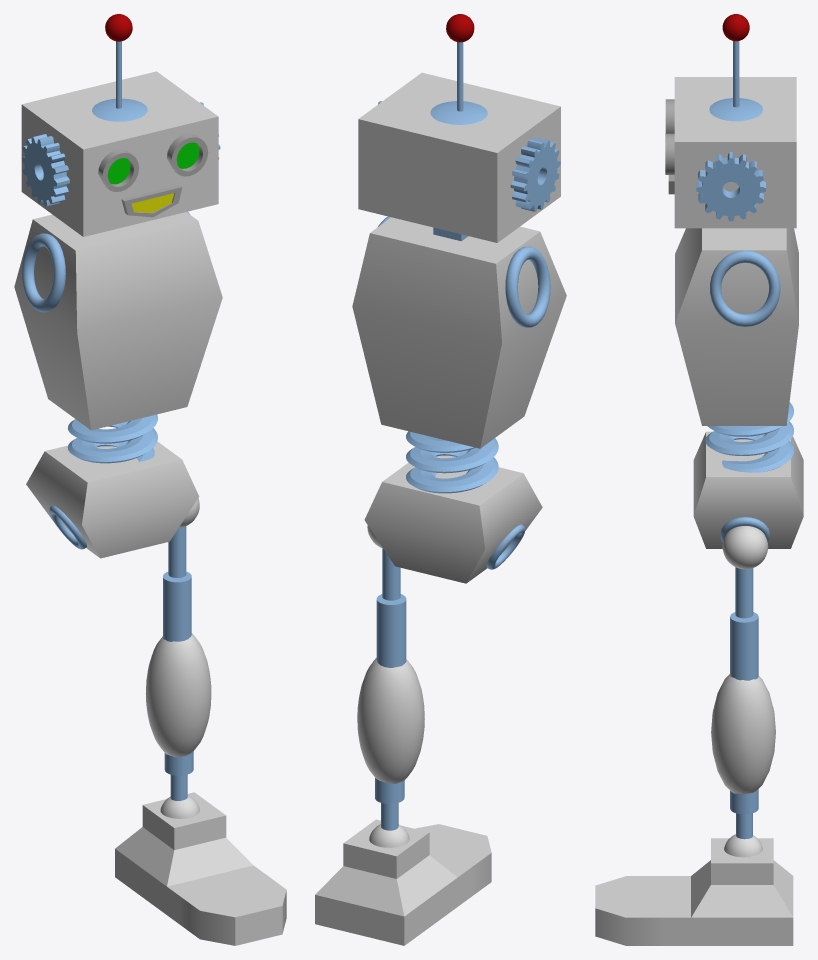
File: DetaLeftLegNoArm.fbx
3 views of the same model, side by side, from view 1: azimuth 30°, elevation 25°; view 2: azimuth 150°, elevation 25°; view 3: azimuth 270°, elevation 25° (orthographic). The views are drawn at different scales.
Visible parts, largest first — view 1: DetaBody, DetaLeftLeg, DetaHead; view 2: DetaBody, DetaHead, DetaLeftLeg; view 3: DetaBody, DetaLeftLeg, DetaHead.
Boxes of the visible parts, x1=… form: DetaBody: x1=14, y1=211, x2=222, y2=558; DetaLeftLeg: x1=115, y1=498, x2=286, y2=945; DetaHead: x1=21, y1=14, x2=220, y2=236; DetaBody: x1=352, y1=216, x2=566, y2=583; DetaHead: x1=358, y1=14, x2=560, y2=242; DetaLeftLeg: x1=315, y1=525, x2=491, y2=945; DetaBody: x1=675, y1=228, x2=803, y2=548; DetaLeftLeg: x1=595, y1=526, x2=793, y2=945; DetaHead: x1=665, y1=14, x2=796, y2=228.
Bounding box in the file's own units: 0.9516 × 4.19 × 0.9038.
